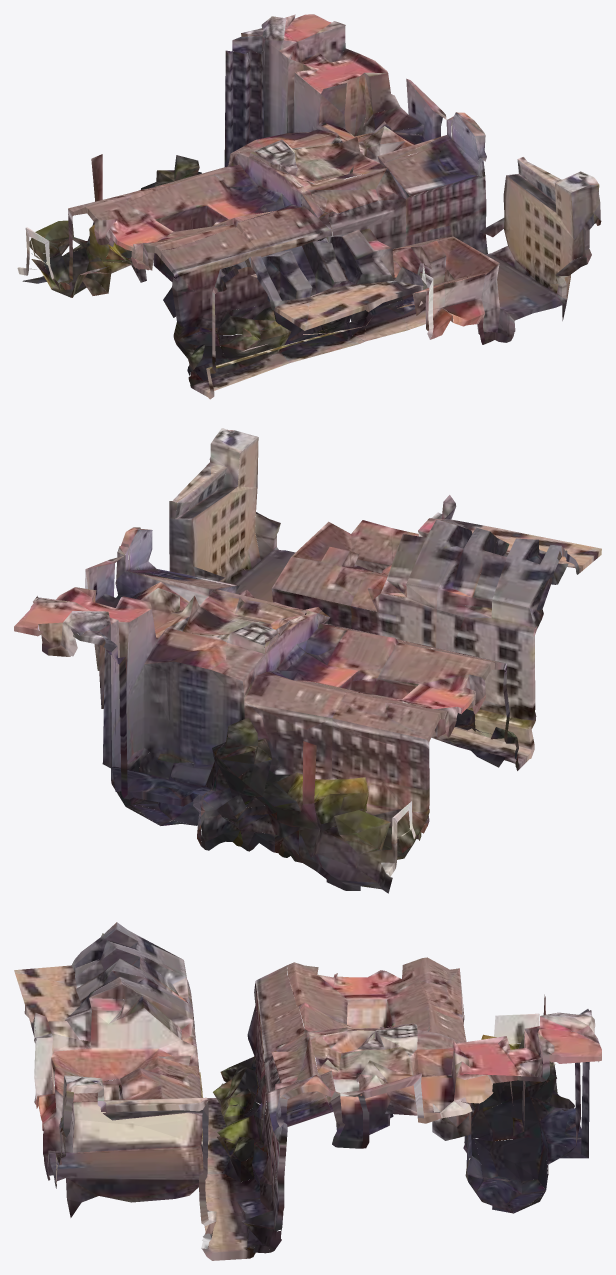
3 views of the same model, one above another, from view 1: azimuth 30°, elevation 25°; view 2: azimuth 150°, elevation 25°; view 3: azimuth 270°, elevation 25° (orthographic). The views are drawn at different scales.
Visible parts, largest first — view 1: Mesh_0; view 2: Mesh_0; view 3: Mesh_0.
Boxes of the visible parts, box(x1,y1,x2,y2) form: Mesh_0: box(17, 14, 601, 399); Mesh_0: box(14, 428, 601, 893); Mesh_0: box(14, 922, 601, 1260).
Bounding box in the file's own units: 67.21 × 34.62 × 82.61.
2 materials, 2 textured.
